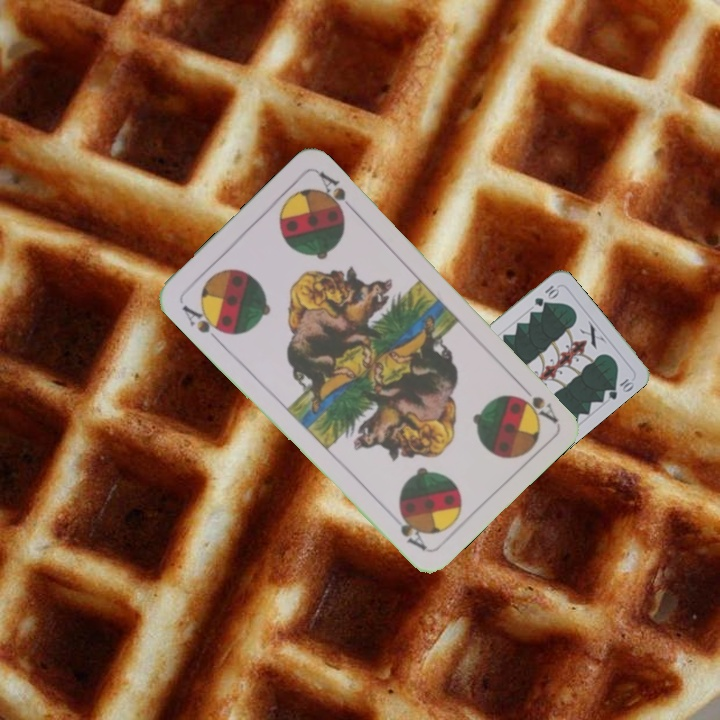G10: (530, 281, 562, 309)
SA: (177, 300, 230, 346), (513, 378, 560, 425)
